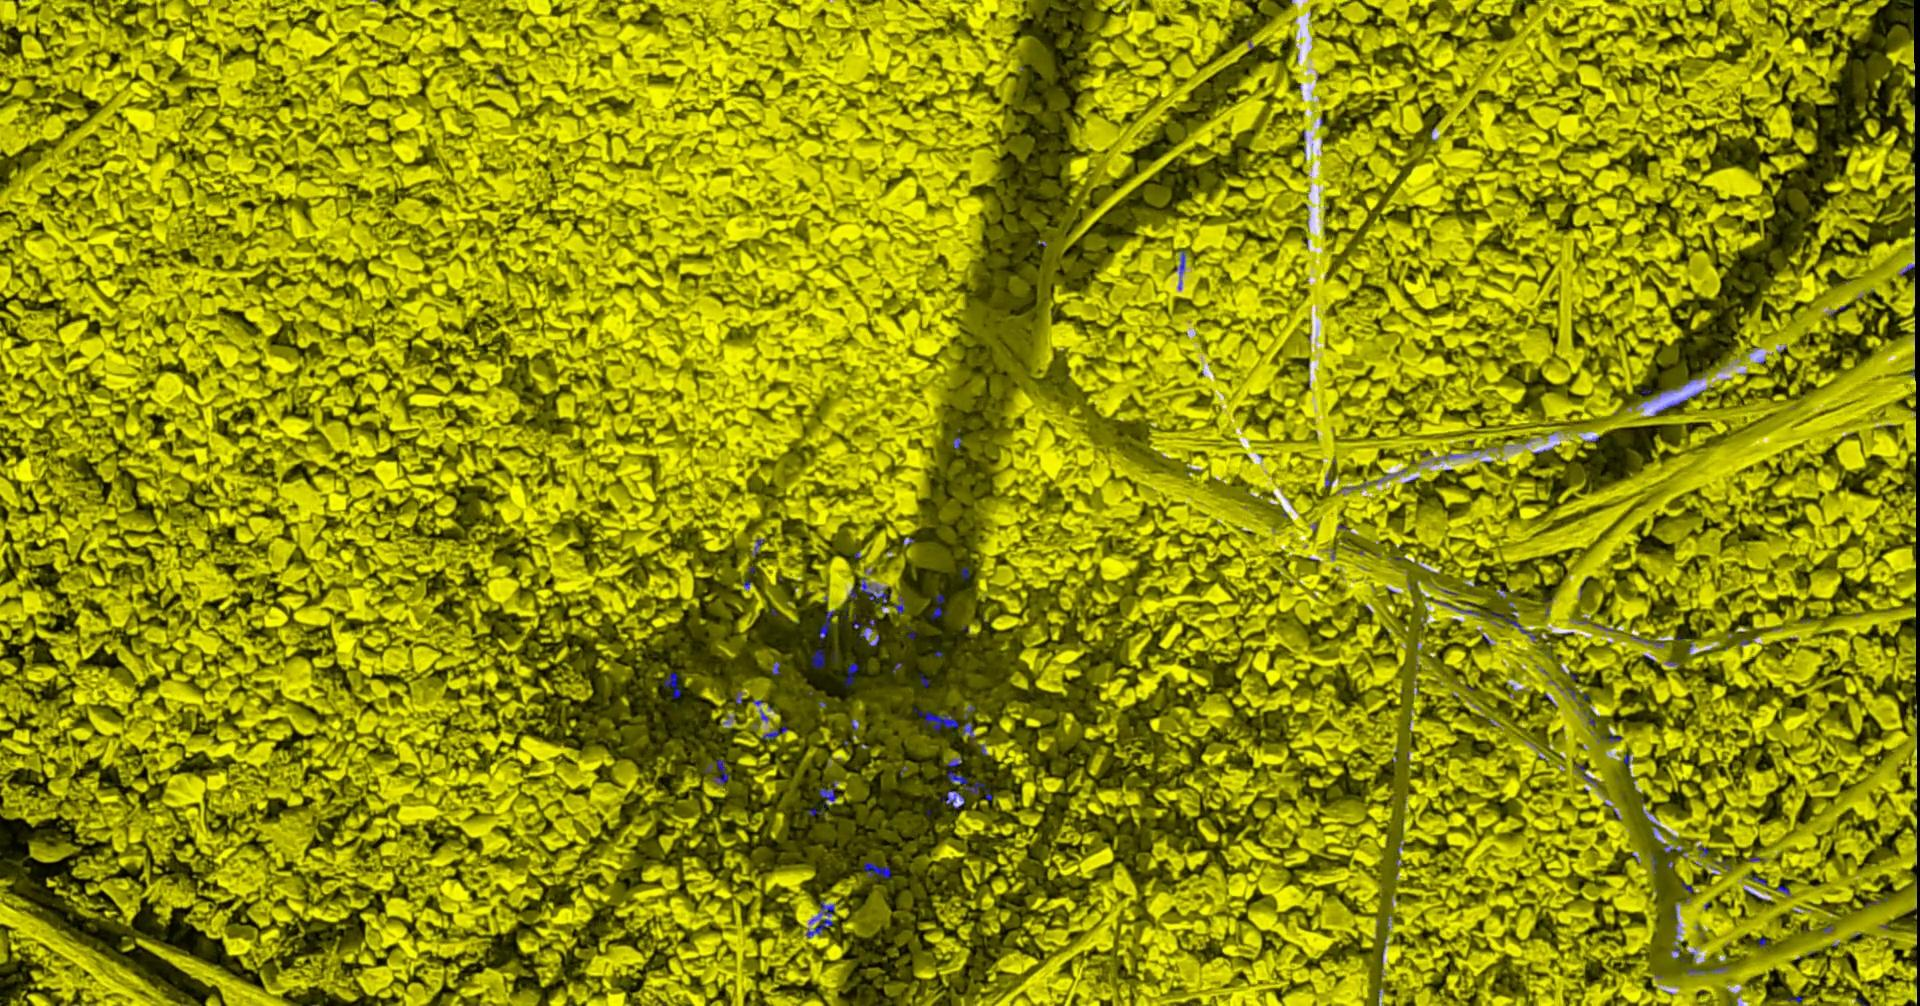ant: (946, 754, 983, 793), (806, 780, 837, 817), (805, 899, 834, 937), (858, 577, 890, 608), (1431, 598, 1486, 616), (917, 711, 957, 730), (705, 760, 729, 785), (818, 608, 836, 641), (961, 704, 975, 743), (663, 671, 681, 699), (1575, 763, 1597, 785), (863, 861, 890, 878), (930, 594, 947, 619), (940, 790, 964, 808), (1505, 616, 1529, 633), (761, 727, 787, 739), (844, 662, 858, 685), (811, 648, 824, 667), (1175, 250, 1185, 273), (893, 594, 904, 614)
